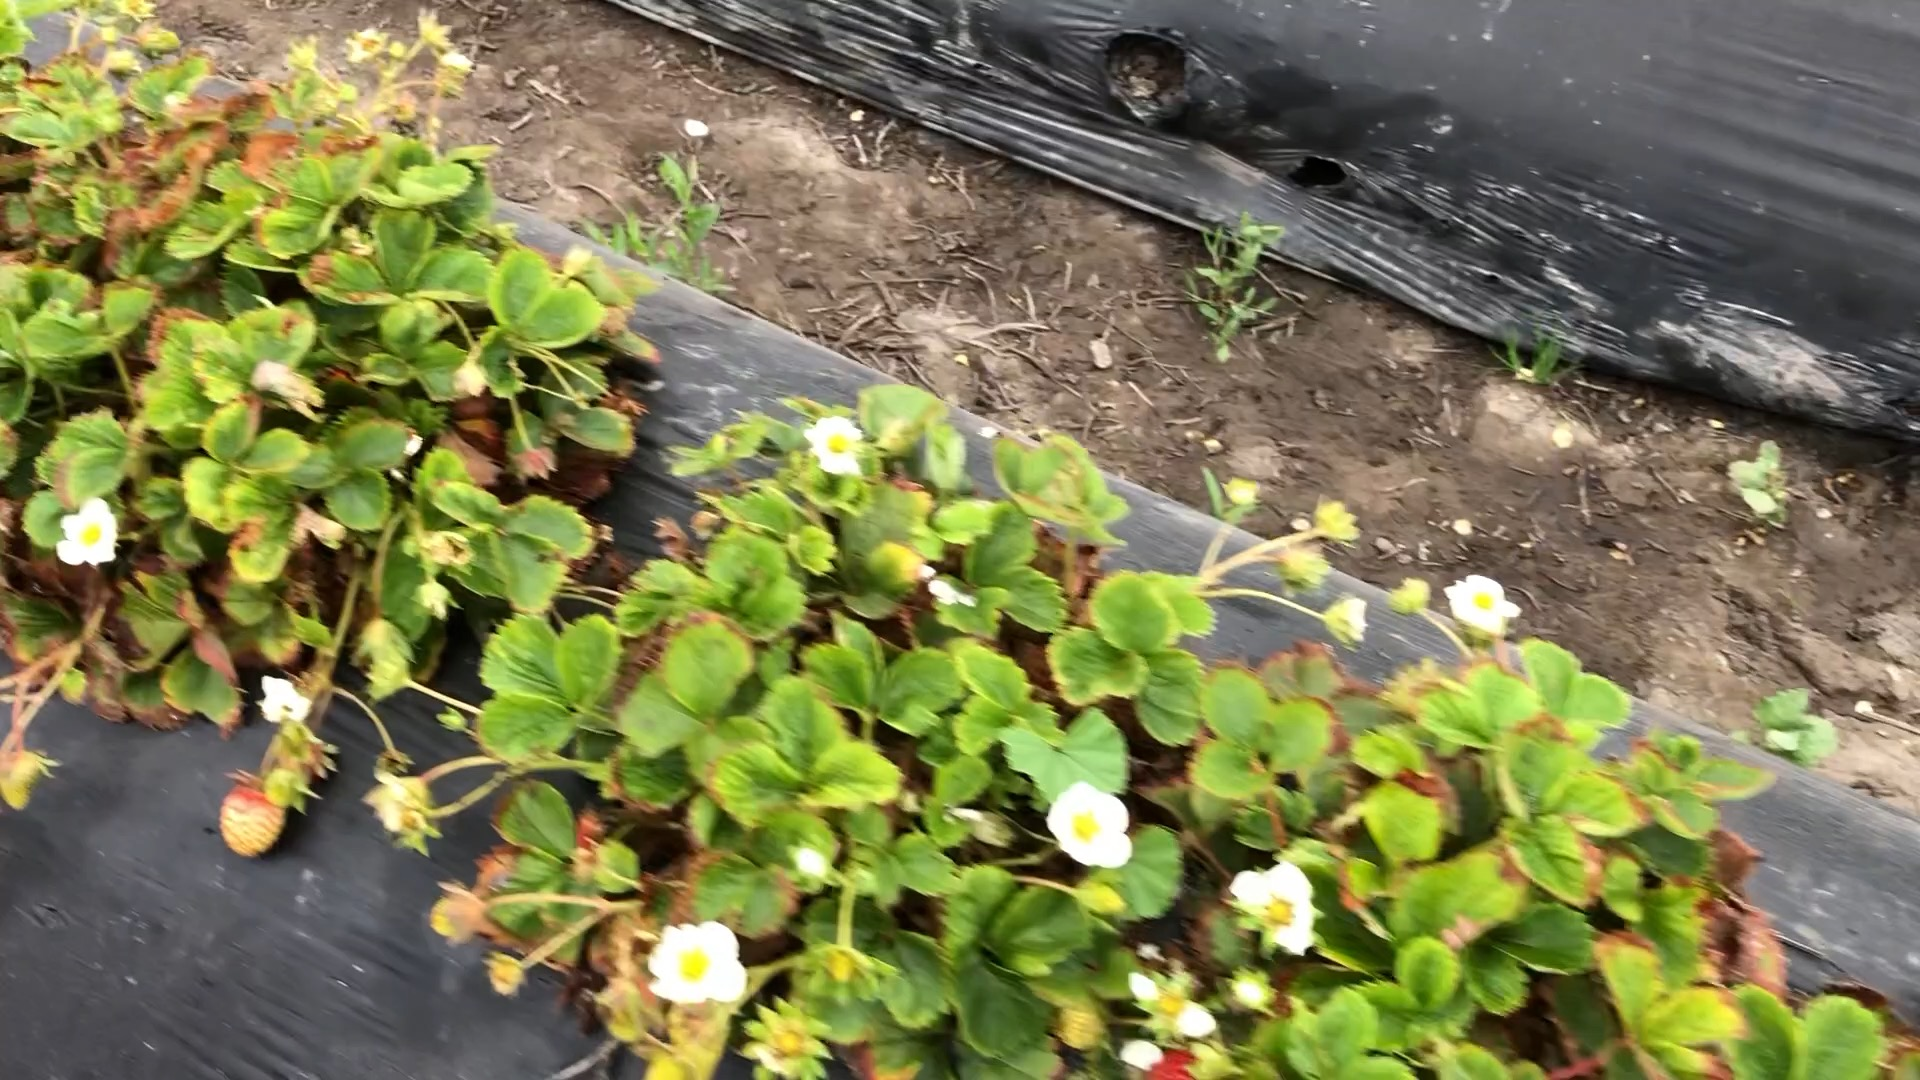ripe_strawberry: (1143, 1044, 1207, 1080)
unripe_strawberry: (218, 781, 291, 860), (1, 749, 55, 814), (1050, 1002, 1110, 1052)
